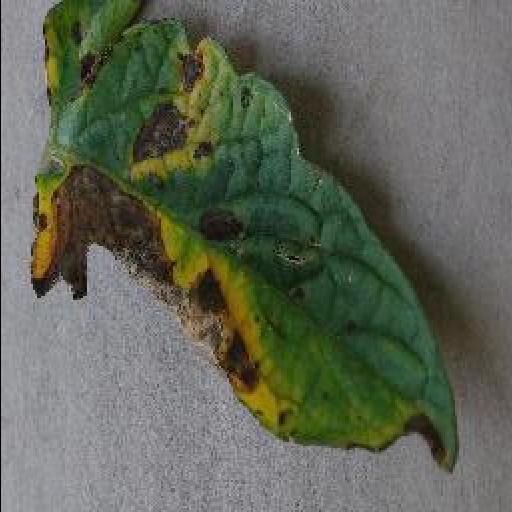Early Blight: (30, 2, 464, 474)
